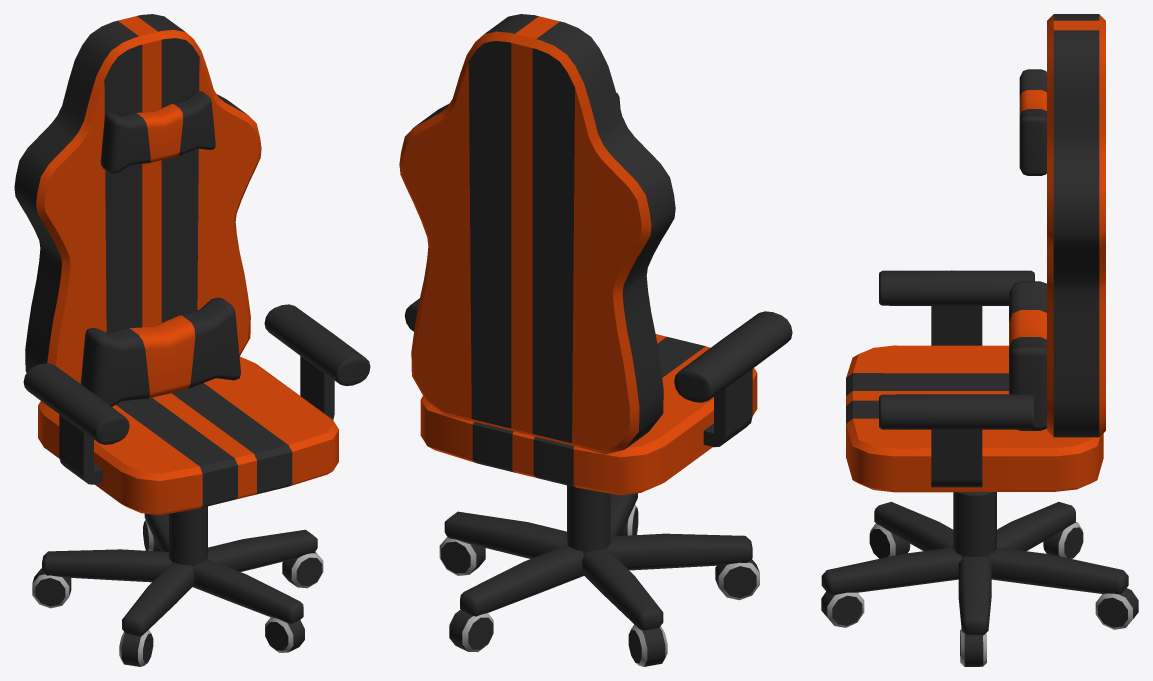
Rendered from Chair_5V.fbx.
3 views of the same model, side by side, from view 1: azimuth 30°, elevation 25°; view 2: azimuth 150°, elevation 25°; view 3: azimuth 270°, elevation 25° (orthographic). The views are drawn at different scales.
Visible parts, largest first — view 1: Chair_5V, Chair_5V Tire_4, Chair_5V Tire_2, Chair_5V Tire_1, Chair_5V Tire_5; view 2: Chair_5V, Chair_5V Tire_3, Chair_5V Tire_5, Chair_5V Tire_4, Chair_5V Tire_2; view 3: Chair_5V, Chair_5V Tire_3, Chair_5V Tire_1, Chair_5V Tire_4, Chair_5V Tire_5, Chair_5V Tire_2.
Part boxes in pixels (bbox=[...]): Chair_5V: bbox=[14, 14, 370, 636]; Chair_5V Tire_4: bbox=[32, 568, 71, 608]; Chair_5V Tire_2: bbox=[282, 552, 323, 588]; Chair_5V Tire_1: bbox=[265, 617, 304, 652]; Chair_5V Tire_5: bbox=[119, 630, 153, 666]; Chair_5V: bbox=[399, 14, 792, 630]; Chair_5V Tire_3: bbox=[449, 609, 493, 652]; Chair_5V Tire_5: bbox=[715, 559, 759, 600]; Chair_5V Tire_4: bbox=[628, 624, 667, 666]; Chair_5V Tire_2: bbox=[439, 537, 485, 575]; Chair_5V: bbox=[821, 14, 1128, 635]; Chair_5V Tire_3: bbox=[1095, 588, 1138, 629]; Chair_5V Tire_1: bbox=[821, 591, 864, 627]; Chair_5V Tire_4: bbox=[1043, 522, 1083, 558]; Chair_5V Tire_5: bbox=[869, 523, 910, 558]; Chair_5V Tire_2: bbox=[960, 629, 986, 666].
Bounding box in the file's own units: 0.7971 × 1.52 × 0.7532.
